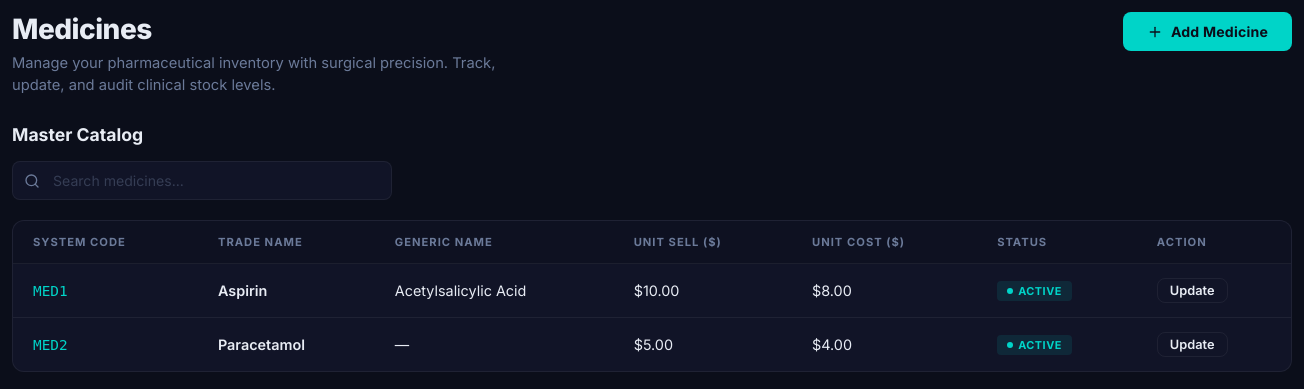
Test: MedicineManagement › filters medicines based on search
The width and height of the screenshot is (1304, 389).
Check: the text "Aspirin" is shown, box [198,264,375,318]
Type "paracetamol" into the field with placeholder "Search medicines...".
click(202, 181); type("paracetamol")  # box [12,161,392,200]
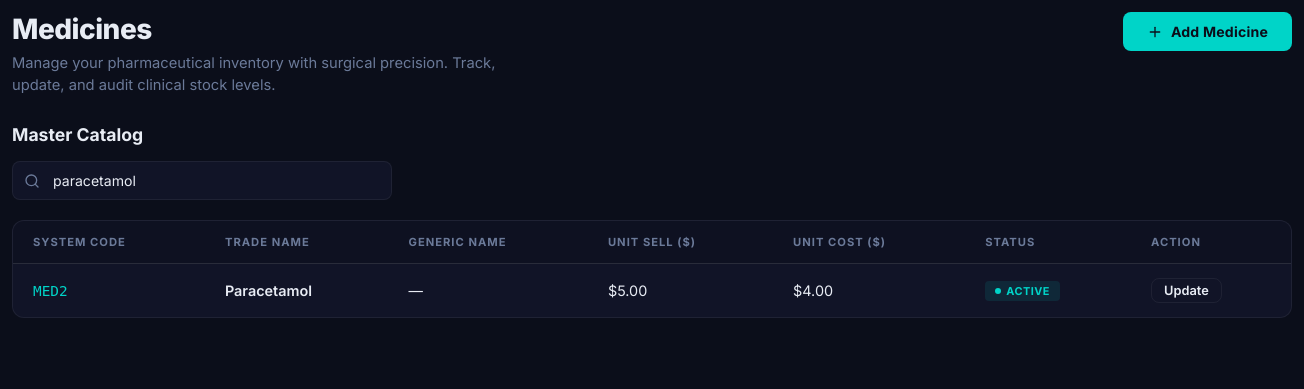
Check: the text "Paracetamol" is shown, box [205,264,388,317]
Check: the text "Aspirin" is gone
